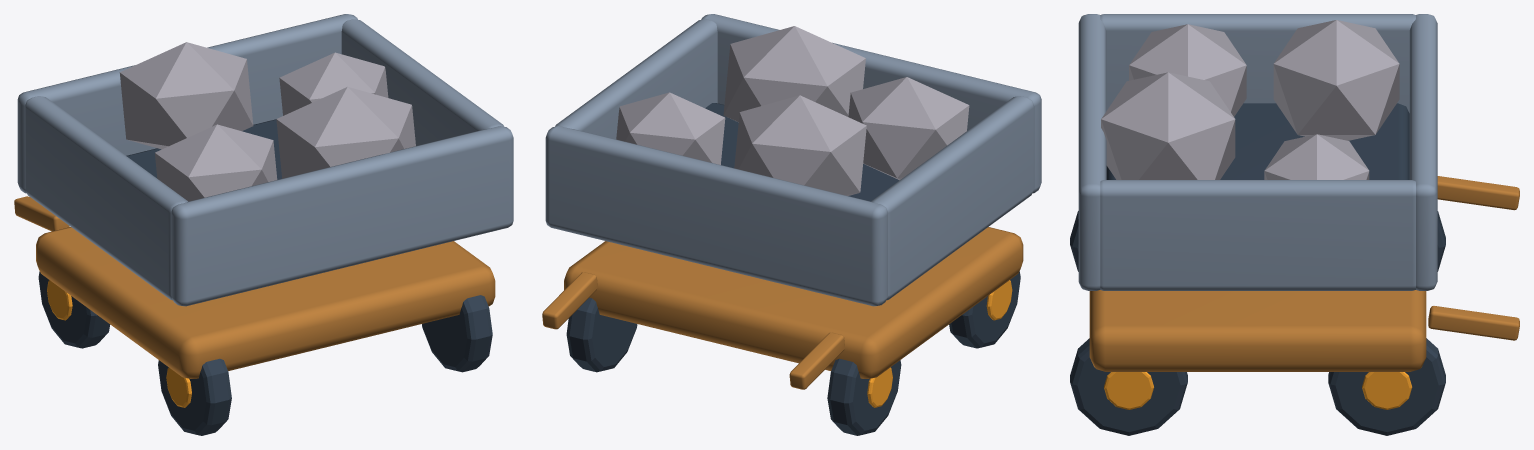
The model's file is minecart.glb.
3 views of the same model, side by side, from view 1: azimuth 30°, elevation 25°; view 2: azimuth 150°, elevation 25°; view 3: azimuth 270°, elevation 25° (orthographic). The views are drawn at different scales.
Parts seen in each view (by area): view 1: steel_mesh.016, wood_mesh.003, rock_mesh.001, track_mesh.008, orange_mesh.021; view 2: steel_mesh.016, wood_mesh.003, rock_mesh.001, track_mesh.008, orange_mesh.021; view 3: steel_mesh.016, rock_mesh.001, wood_mesh.003, track_mesh.008, orange_mesh.021.
Part boxes in pixels (x1=…): steel_mesh.016: x1=17, y1=14, x2=513, y2=306; wood_mesh.003: x1=14, y1=196, x2=495, y2=378; rock_mesh.001: x1=119, y1=42, x2=415, y2=201; track_mesh.008: x1=38, y1=119, x2=492, y2=435; orange_mesh.021: x1=47, y1=280, x2=191, y2=407; steel_mesh.016: x1=545, y1=14, x2=1041, y2=306; wood_mesh.003: x1=542, y1=227, x2=1023, y2=389; rock_mesh.001: x1=616, y1=26, x2=969, y2=195; track_mesh.008: x1=566, y1=103, x2=1020, y2=435; orange_mesh.021: x1=867, y1=280, x2=1012, y2=407; steel_mesh.016: x1=1078, y1=14, x2=1437, y2=290; rock_mesh.001: x1=1101, y1=20, x2=1399, y2=179; wood_mesh.003: x1=1089, y1=176, x2=1519, y2=371; track_mesh.008: x1=1070, y1=103, x2=1445, y2=435; orange_mesh.021: x1=1104, y1=372, x2=1412, y2=409.
Size of the model in its own units: 1.5 by 1.26 by 1.6.
